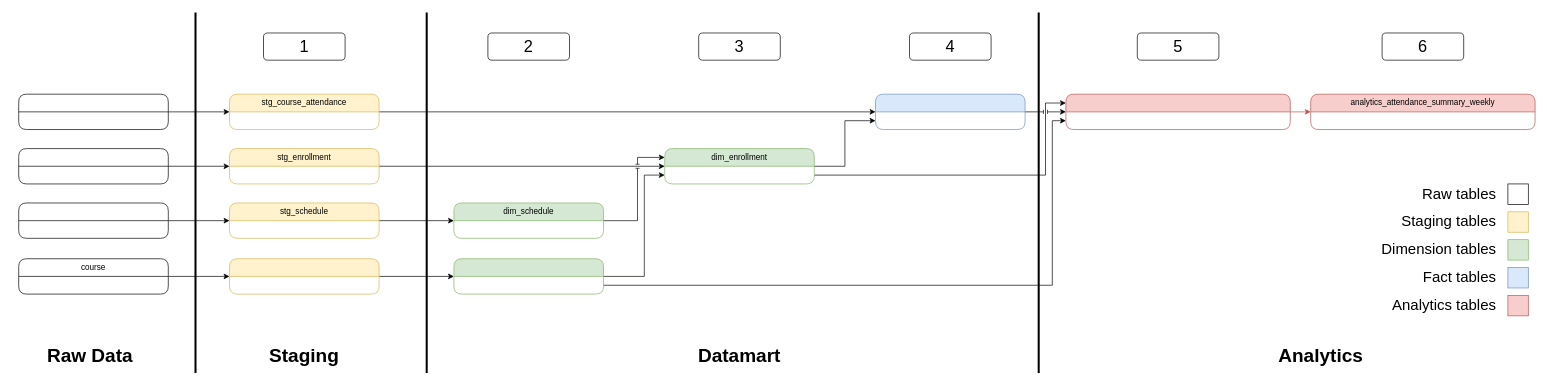
Some shapes in this 1547 by 386 pixel diagram are drawn without their labels. The centre of each missing label's shape, as x and y in pixels:
"analytics_attendance_weekly" goes at (1177,112).
"course_attendance" goes at (93,112).
"dim_course" goes at (528,276).
"enrollment" goes at (93,166).
"fact_attendance_daily" goes at (950,112).
"schedule" goes at (93,220).
"stg_course" goes at (304,276).
